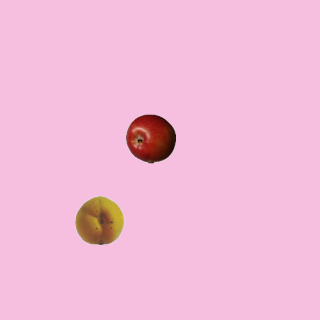Apple Braeburn: (125, 113, 175, 163)
Peach 2: (74, 194, 124, 244)
